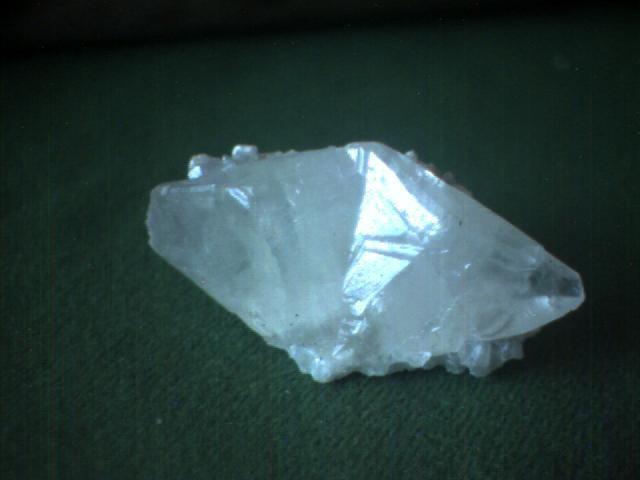calcite: (147, 142, 585, 382)
